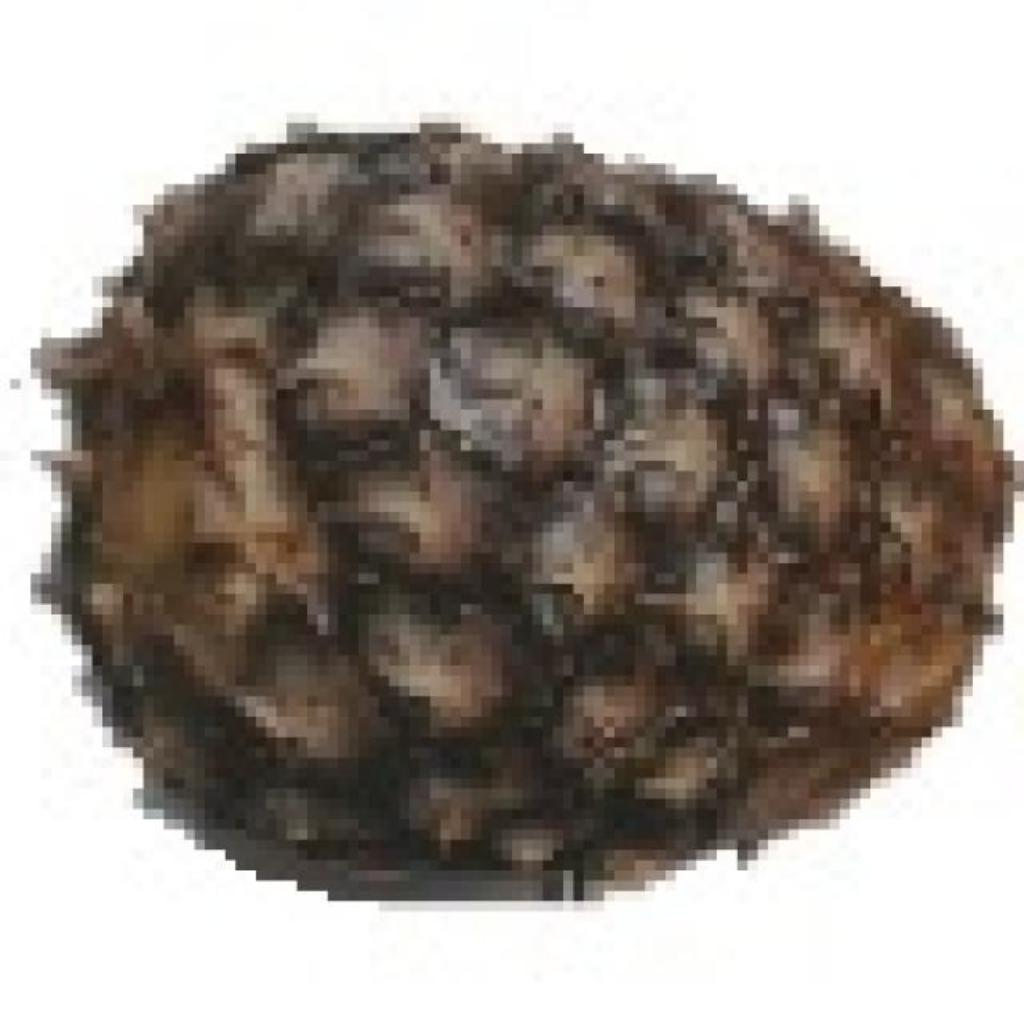pineapple: (61, 113, 1024, 870)
